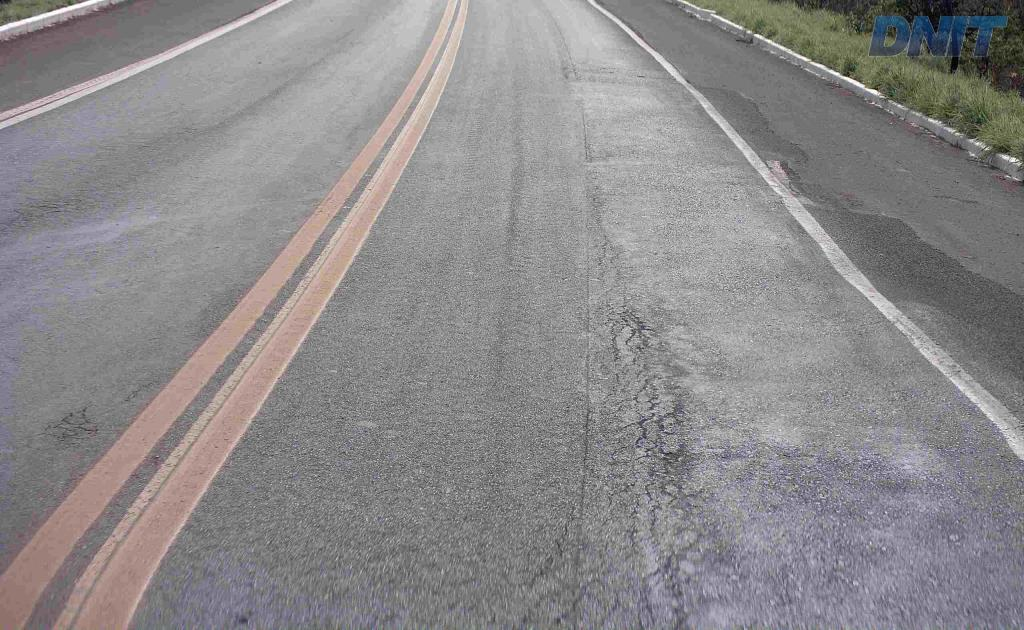crack: (620, 400, 695, 489), (616, 310, 655, 345)
